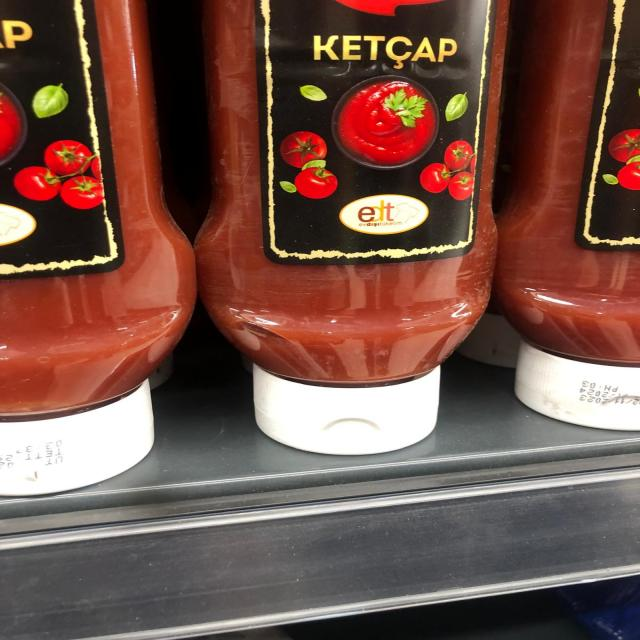ketchup: (202, 0, 534, 447)
